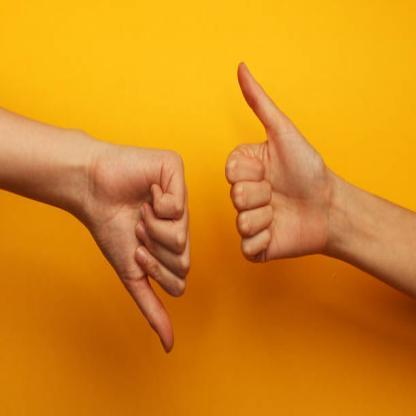thumb_down: (96, 136, 192, 356)
thumb_up: (221, 59, 330, 264)
